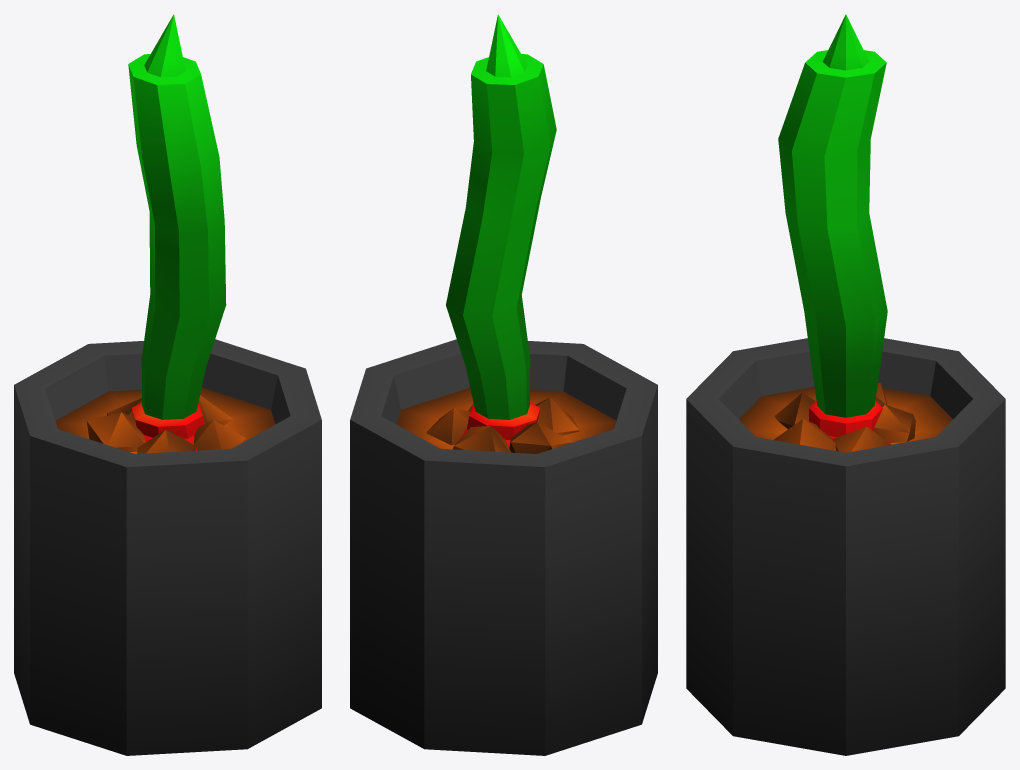
File: MangroveMuda+PolyBag.fbx
3 views of the same model, side by side, from view 1: azimuth 30°, elevation 25°; view 2: azimuth 150°, elevation 25°; view 3: azimuth 270°, elevation 25° (orthographic).
Visible parts, largest first — view 1: mangrove_pot; view 2: mangrove_pot; view 3: mangrove_pot.
Boxes of the visible parts, left/top/right/bottom form: mangrove_pot: left=14, top=14, right=321, bottom=755; mangrove_pot: left=350, top=14, right=657, bottom=755; mangrove_pot: left=686, top=14, right=1005, bottom=755.
Bounding box in the file's own units: 96.98 × 227 × 96.98.
